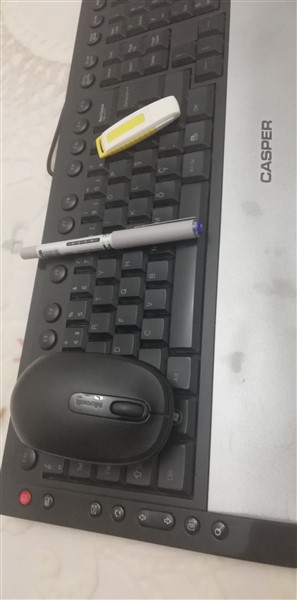flash disk: (94, 95, 181, 163)
klavye: (1, 4, 294, 572)
mouse: (11, 344, 176, 462)
pilot kalem: (16, 207, 204, 267)
